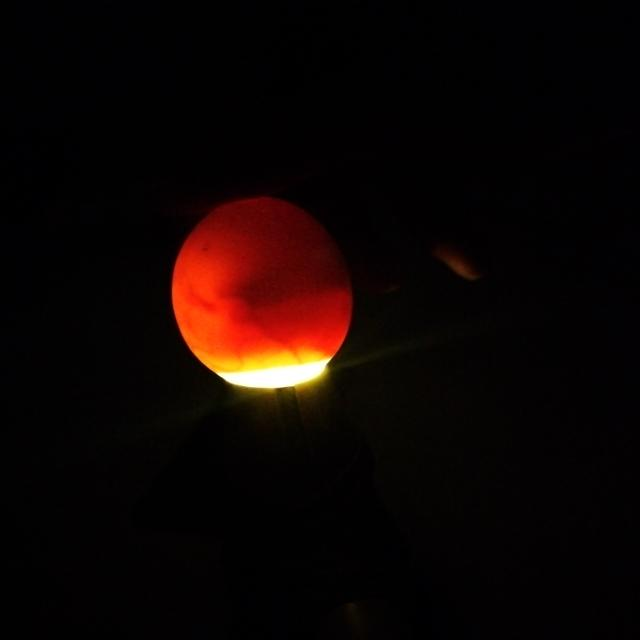Embriao: (183, 198, 354, 314)
